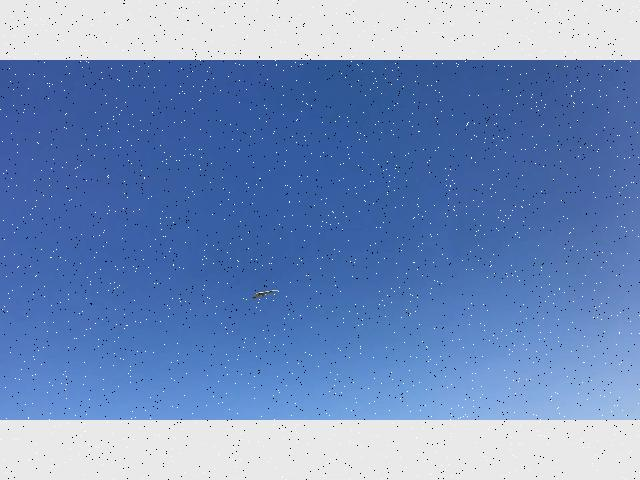Anti-Drone: (246, 282, 282, 304)
